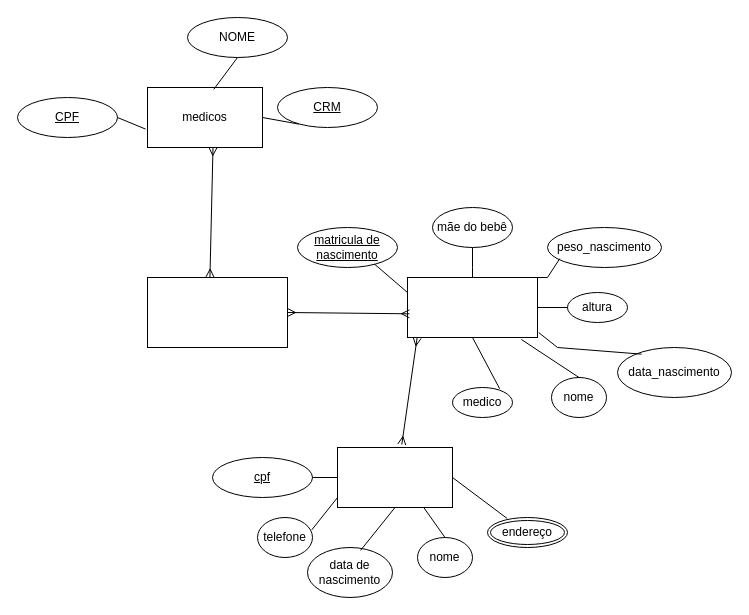
Some shapes in this 749 by 615 pixel diagram are drawn without their labels. Here are the shapes that lost their labels. From the top down, the box of each, then its label:
(146, 276, 288, 348): berçario
(406, 276, 538, 338): bebês
(336, 446, 452, 508): mãe
